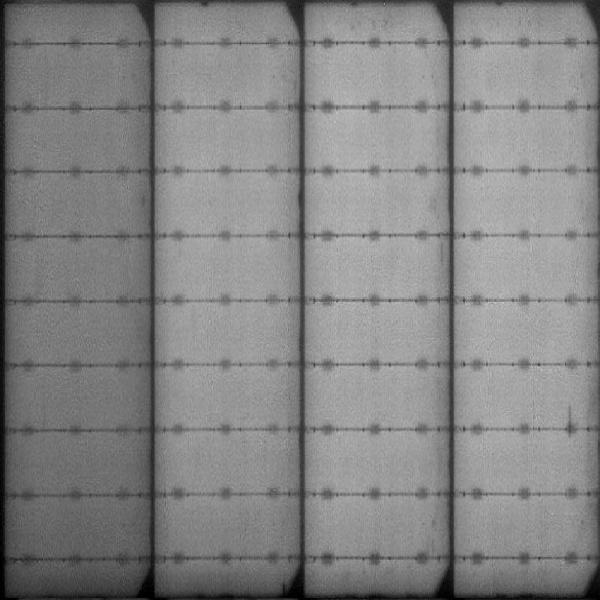scratch: (565, 398, 574, 436)
